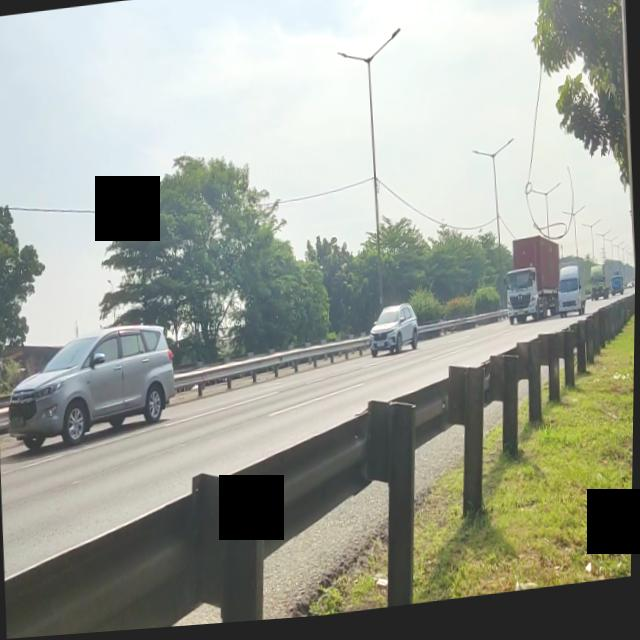Golongan I: (0, 317, 183, 462), (367, 301, 427, 369)
